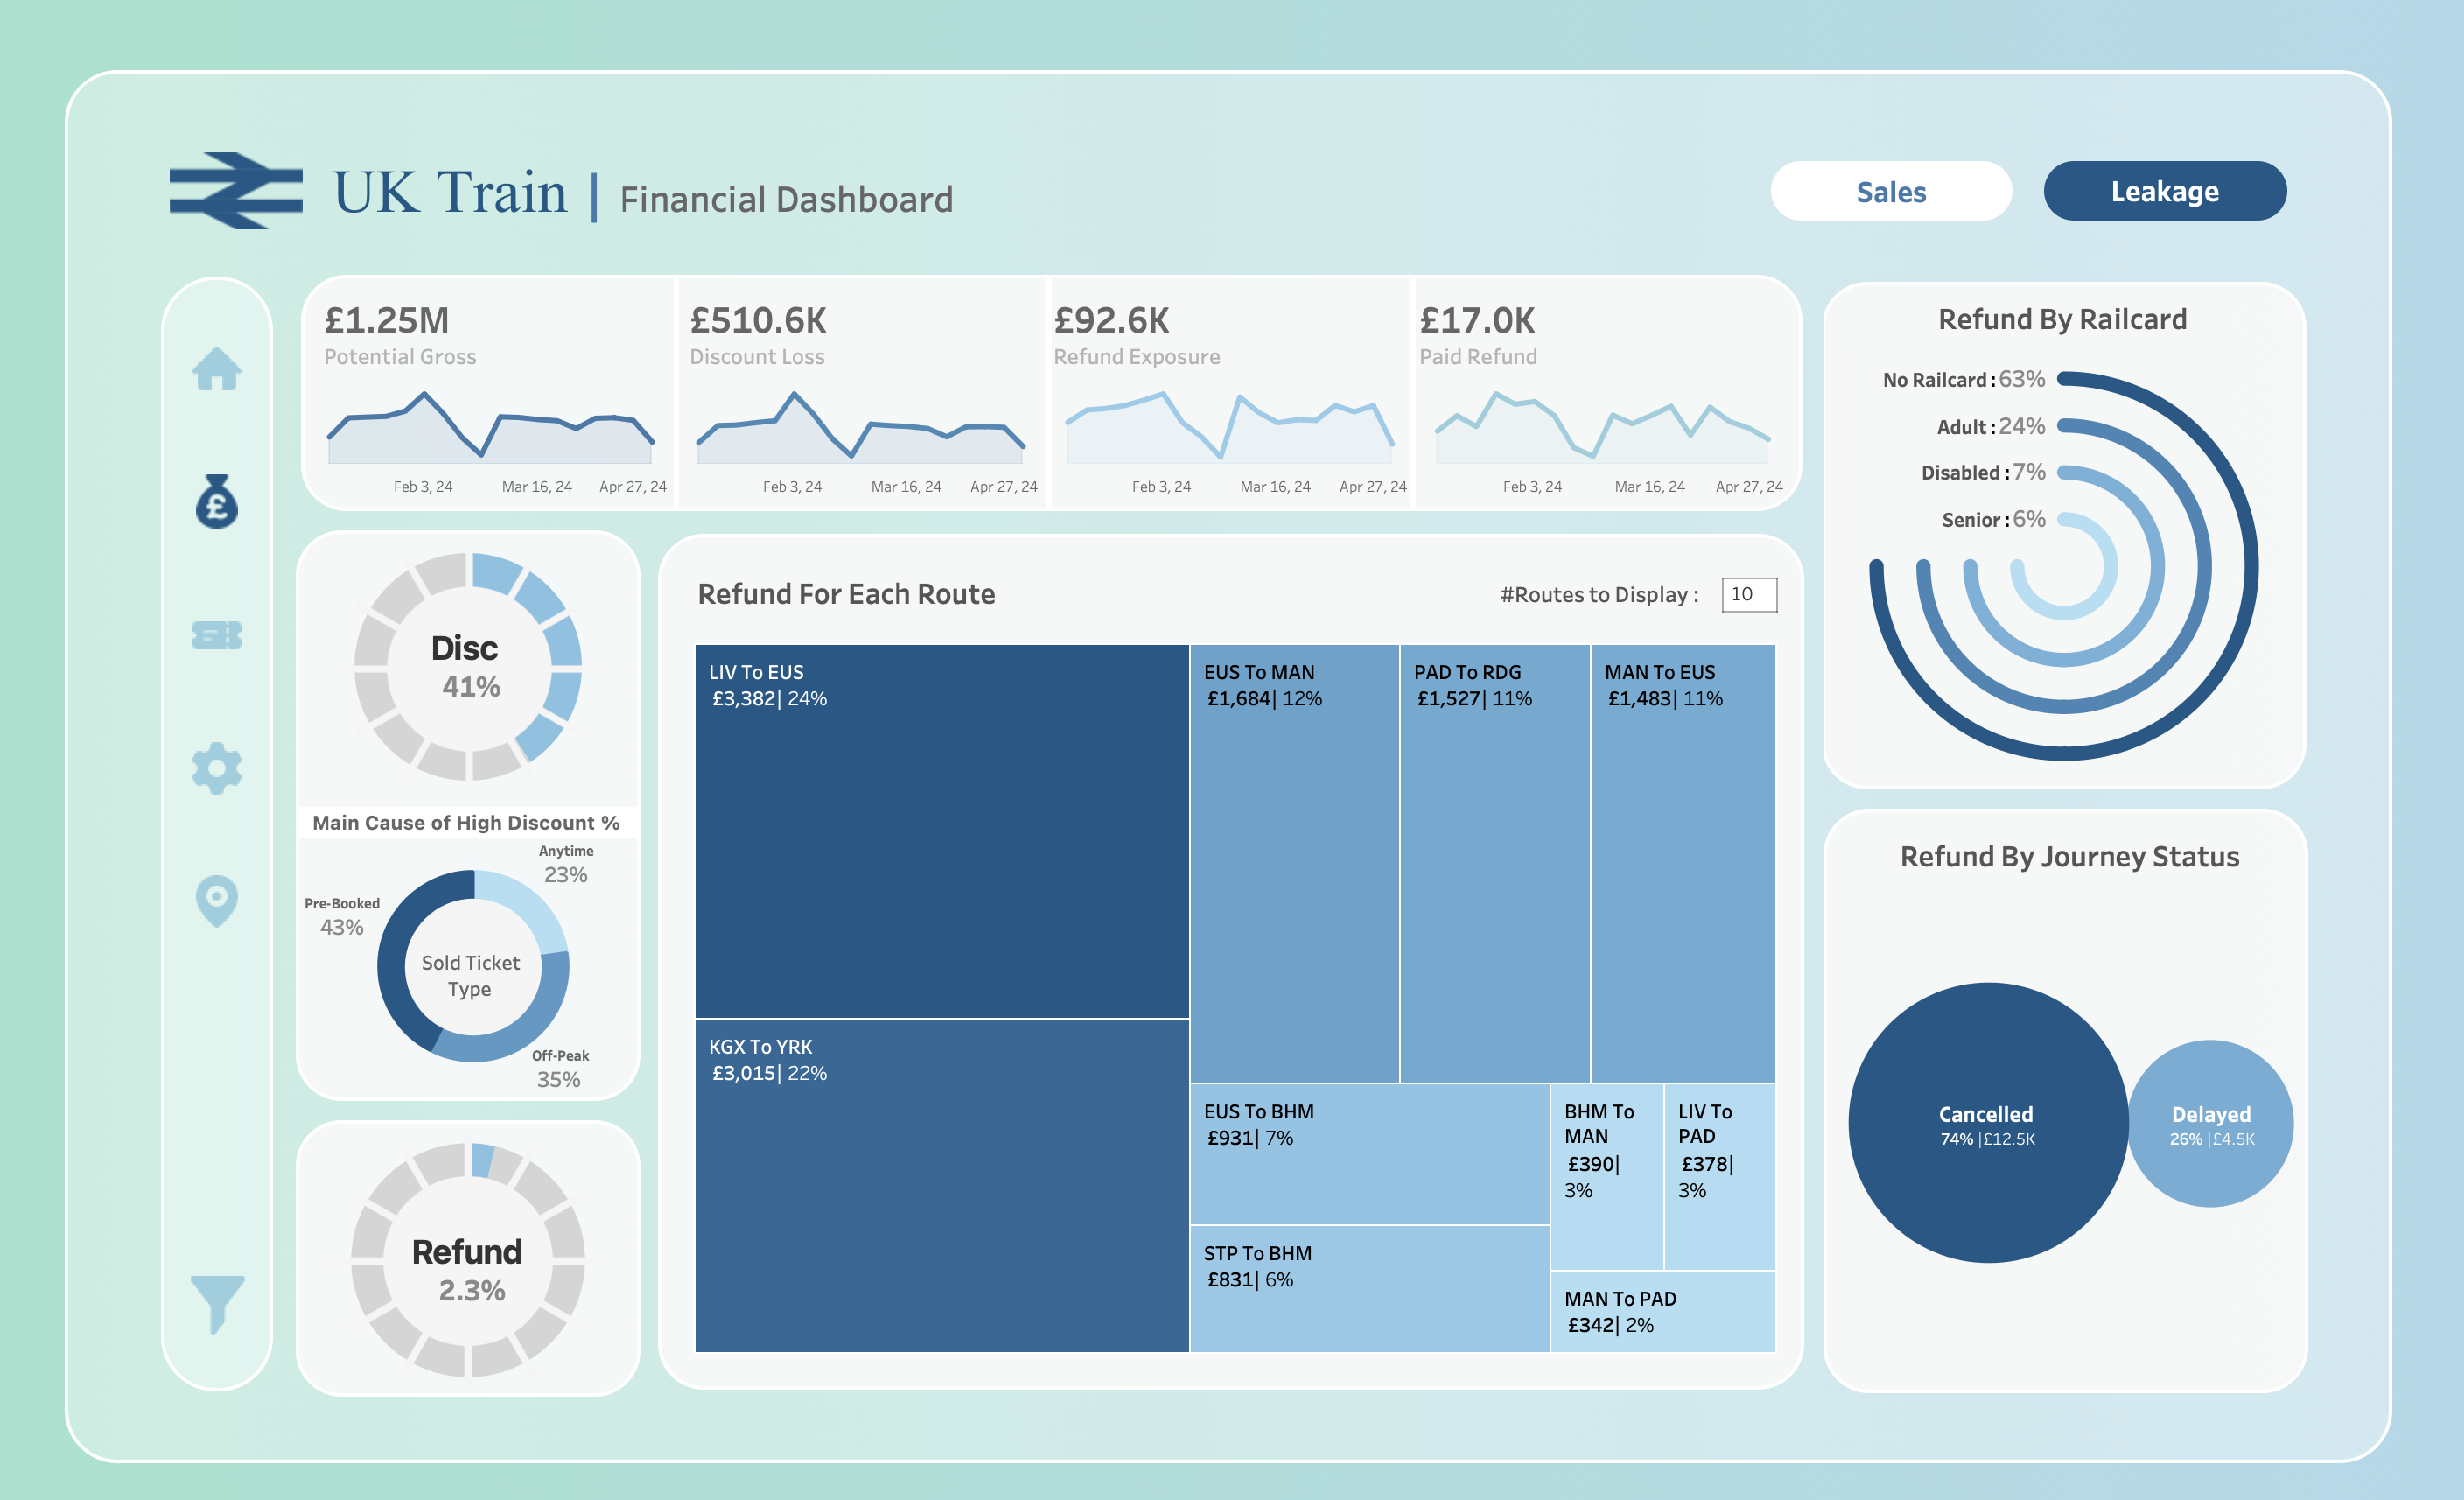

This screenshot's page, from the dashboard's own definition file:
{"tool":"tableau","page":{"name":"Financial Leakage","canvas":[1400,860],"ordinal":2},"visuals":[{"type":"worksheet","title":"Sales Filters","mark":"Automatic","box":[41,47,69,792]},{"type":"blank","box":[110,47,1257,792]},{"type":"image","param":"Image/Asset 1.png","box":[89,88,96,52]},{"type":"text","box":[185,88,437,52]},{"type":"blank","box":[622,88,383,52]},{"type":"dashboard-object","box":[1014,97,138,34]},{"type":"text","box":[1170,97,139,34]},{"type":"worksheet","title":"box (3)","mark":"Automatic","box":[167,158,873,144]},{"type":"worksheet","title":"box (6)","mark":"Automatic","box":[1040,158,286,303]},{"type":"worksheet","title":"Leakage KPIs","mark":"Text","box":[179,166,844,60]},{"type":"text","box":[1055,172,252,30]},{"type":"dashboard-object","box":[108,177,36,77]},{"type":"worksheet","title":"Radial Refund  Railcard","mark":"Line","box":[1055,202,252,252]},{"type":"text","box":[168,203,170,55]},{"type":"worksheet","title":"Gross Time line","mark":"Automatic","rows":["original_price","original_price"],"cols":["Date_of_Purchase"],"box":[179,226,211,66]},{"type":"worksheet","title":"Discount Time line","mark":"Automatic","rows":["Calculation_5917443838586891","Calculation_5917443838586891"],"cols":["Date_of_Purchase"],"box":[390,226,211,66]},{"type":"worksheet","title":"Refund Exposure Time line","mark":"Automatic","rows":["Refund_Value","Refund_Value"],"cols":["Date_of_Purchase"],"box":[601,226,211,66]},{"type":"worksheet","title":"Refund Time line","mark":"Automatic","rows":["Calculation_5917443838251018","Calculation_5917443838251018"],"cols":["Date_of_Purchase"],"box":[812,226,211,66]},{"type":"image","param":"Image/Asset 5.png","box":[108,254,36,76]},{"type":"filter","title":"Sales Filters","param":"[federated.0brtjop1xmpmji1068fz80lkxfim].[mn:Date_of_Purchase:ok]","box":[168,258,170,53]},{"type":"worksheet","title":"Discount %","mark":"Pie","cols":["Calculation_0696676781572097","Calculation_0696676781572097"],"box":[177,301,185,155]},{"type":"worksheet","title":"box (9)","mark":"Automatic","box":[167,302,205,339]},{"type":"worksheet","title":"box (5)","mark":"Automatic","box":[372,302,668,506]},{"type":"filter","title":"Discount %","param":"[federated.0brtjop1xmpmji1068fz80lkxfim].[none:Calculation_0696677097410594:nk]","box":[168,311,170,52]},{"type":"text","box":[391,323,462,42]},{"type":"text","box":[853,323,126,42]},{"type":"parameter","param":"[Parameters].[Parameter 1]","box":[979,323,46,42]},{"type":"dashboard-object","box":[108,330,36,76]},{"type":"filter","title":"Discount %","param":"[federated.0brtjop1xmpmji1068fz80lkxfim].[none:Departure_City:nk]","box":[168,363,170,52]},{"type":"worksheet","title":"Top N Routs By Refund","mark":"Square","box":[391,365,634,421]},{"type":"dashboard-object","box":[108,406,36,76]},{"type":"filter","title":"Discount %","param":"[federated.0brtjop1xmpmji1068fz80lkxfim].[none:Reason_for_Delay:nk]","box":[168,415,170,63]},{"type":"worksheet","title":"box (7)","mark":"Automatic","box":[1040,461,286,347]},{"type":"text","box":[172,466,195,18]},{"type":"worksheet","title":"Ticket Type","mark":"Pie","cols":["Calculation_0696676781572097","Calculation_0696676781572097"],"box":[176,474,193,166]},{"type":"blank","box":[168,478,170,232]},{"type":"text","box":[1053,478,264,32]},{"type":"dashboard-object","box":[108,482,36,76]},{"type":"worksheet","title":"Refund By Stutas","mark":"Circle","box":[1053,510,264,273]},{"type":"blank","box":[108,558,36,76]},{"type":"blank","box":[108,634,36,76]},{"type":"worksheet","title":"Discount % (2)","mark":"Pie","cols":["Calculation_0696676781572097","Calculation_0696676781572097"],"box":[178,638,183,159]},{"type":"worksheet","title":"box (8)","mark":"Automatic","box":[167,641,205,167]},{"type":"blank","box":[108,710,36,76]},{"type":"worksheet","title":"Reset Filter","mark":"Automatic","box":[168,710,170,47]},{"type":"dashboard-object","box":[110,728,32,46]}]}

Visuals, with their boxes in screenshot pixels (x1, y1, x2, y2), scaled from the page's 1400x860 canvas onto the 2464x1500 screenshot:
"Sales Filters" worksheet: [x1=72, y1=82, x2=193, y2=1463]
blank: [x1=193, y1=82, x2=2406, y2=1463]
image: [x1=157, y1=153, x2=325, y2=244]
text: [x1=325, y1=153, x2=1095, y2=244]
blank: [x1=1095, y1=153, x2=1768, y2=244]
dashboard-object: [x1=1785, y1=169, x2=2027, y2=228]
text: [x1=2059, y1=169, x2=2304, y2=228]
"box (3)" worksheet: [x1=294, y1=276, x2=1830, y2=527]
"box (6)" worksheet: [x1=1830, y1=276, x2=2334, y2=804]
"Leakage KPIs" worksheet (Text marks): [x1=315, y1=290, x2=1801, y2=394]
text: [x1=1857, y1=300, x2=2300, y2=353]
dashboard-object: [x1=190, y1=309, x2=254, y2=443]
"Radial Refund  Railcard" worksheet (Line marks): [x1=1857, y1=353, x2=2300, y2=792]
text: [x1=296, y1=354, x2=595, y2=450]
"Gross Time line" worksheet: [x1=315, y1=394, x2=686, y2=509]
"Discount Time line" worksheet: [x1=686, y1=394, x2=1058, y2=509]
"Refund Exposure Time line" worksheet: [x1=1058, y1=394, x2=1429, y2=509]
"Refund Time line" worksheet: [x1=1429, y1=394, x2=1801, y2=509]
image: [x1=190, y1=443, x2=254, y2=576]
"Sales Filters" filter: [x1=296, y1=450, x2=595, y2=543]
"Discount %" worksheet (Pie marks): [x1=311, y1=525, x2=637, y2=796]
"box (9)" worksheet: [x1=294, y1=527, x2=654, y2=1118]
"box (5)" worksheet: [x1=654, y1=527, x2=1830, y2=1409]
"Discount %" filter: [x1=296, y1=543, x2=595, y2=633]
text: [x1=688, y1=564, x2=1501, y2=636]
text: [x1=1501, y1=564, x2=1723, y2=636]
parameter: [x1=1723, y1=564, x2=1804, y2=636]
dashboard-object: [x1=190, y1=576, x2=254, y2=708]
"Discount %" filter: [x1=296, y1=633, x2=595, y2=724]
"Top N Routs By Refund" worksheet (Square marks): [x1=688, y1=636, x2=1804, y2=1371]
dashboard-object: [x1=190, y1=708, x2=254, y2=841]
"Discount %" filter: [x1=296, y1=724, x2=595, y2=834]
"box (7)" worksheet: [x1=1830, y1=804, x2=2334, y2=1409]
text: [x1=303, y1=813, x2=646, y2=845]
"Ticket Type" worksheet (Pie marks): [x1=310, y1=827, x2=649, y2=1117]
blank: [x1=296, y1=834, x2=595, y2=1238]
text: [x1=1853, y1=834, x2=2318, y2=889]
dashboard-object: [x1=190, y1=841, x2=254, y2=973]
"Refund By Stutas" worksheet (Circle marks): [x1=1853, y1=889, x2=2318, y2=1366]
blank: [x1=190, y1=973, x2=254, y2=1106]
blank: [x1=190, y1=1106, x2=254, y2=1238]
"Discount % (2)" worksheet (Pie marks): [x1=313, y1=1113, x2=635, y2=1390]
"box (8)" worksheet: [x1=294, y1=1118, x2=654, y2=1409]
blank: [x1=190, y1=1238, x2=254, y2=1371]
"Reset Filter" worksheet: [x1=296, y1=1238, x2=595, y2=1321]
dashboard-object: [x1=193, y1=1270, x2=250, y2=1350]
